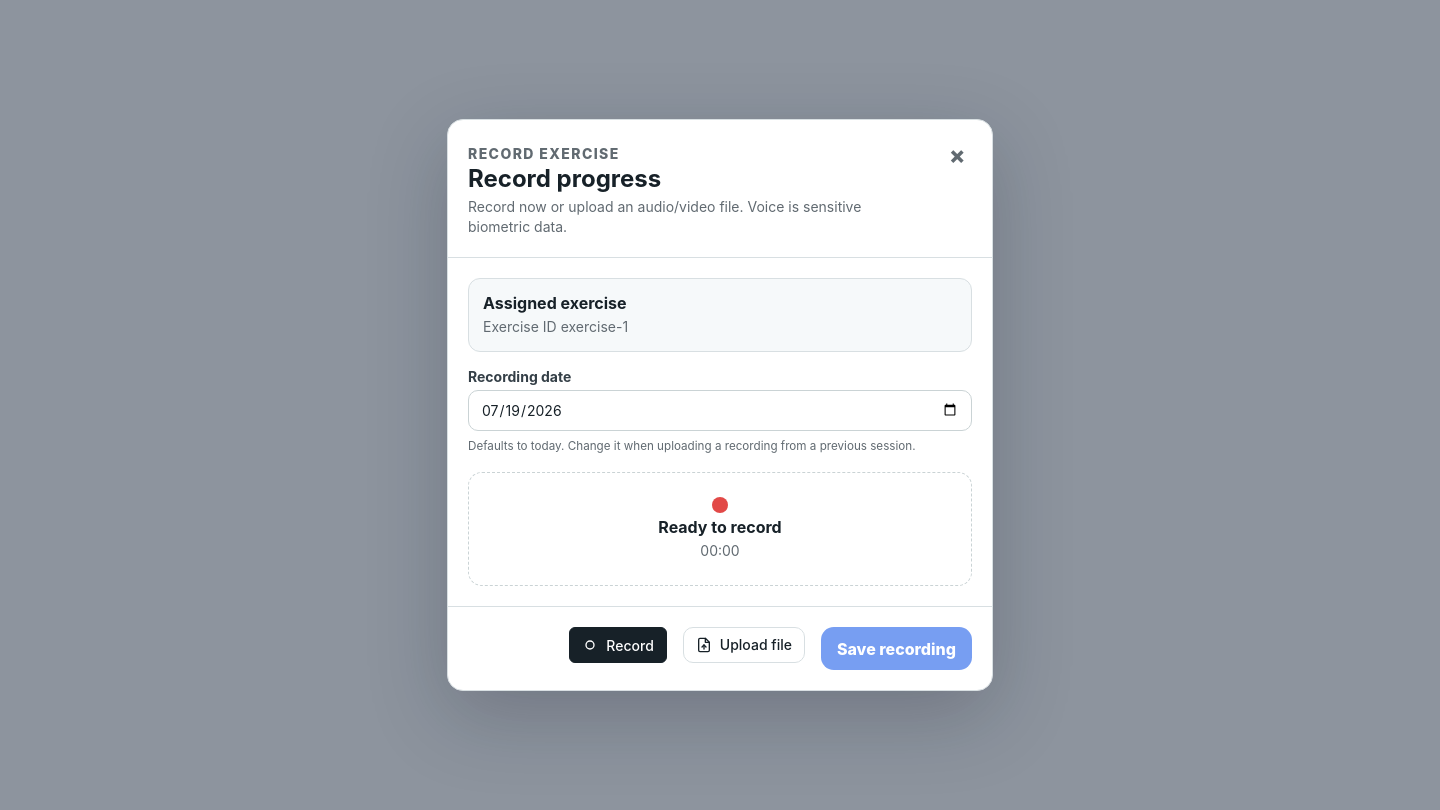
Test: UC-05 patient live recording › reports unsupported browsers when attempting to record
Click the button "Record".
click(618, 645)  # box x1=569 y1=627 x2=667 y2=663
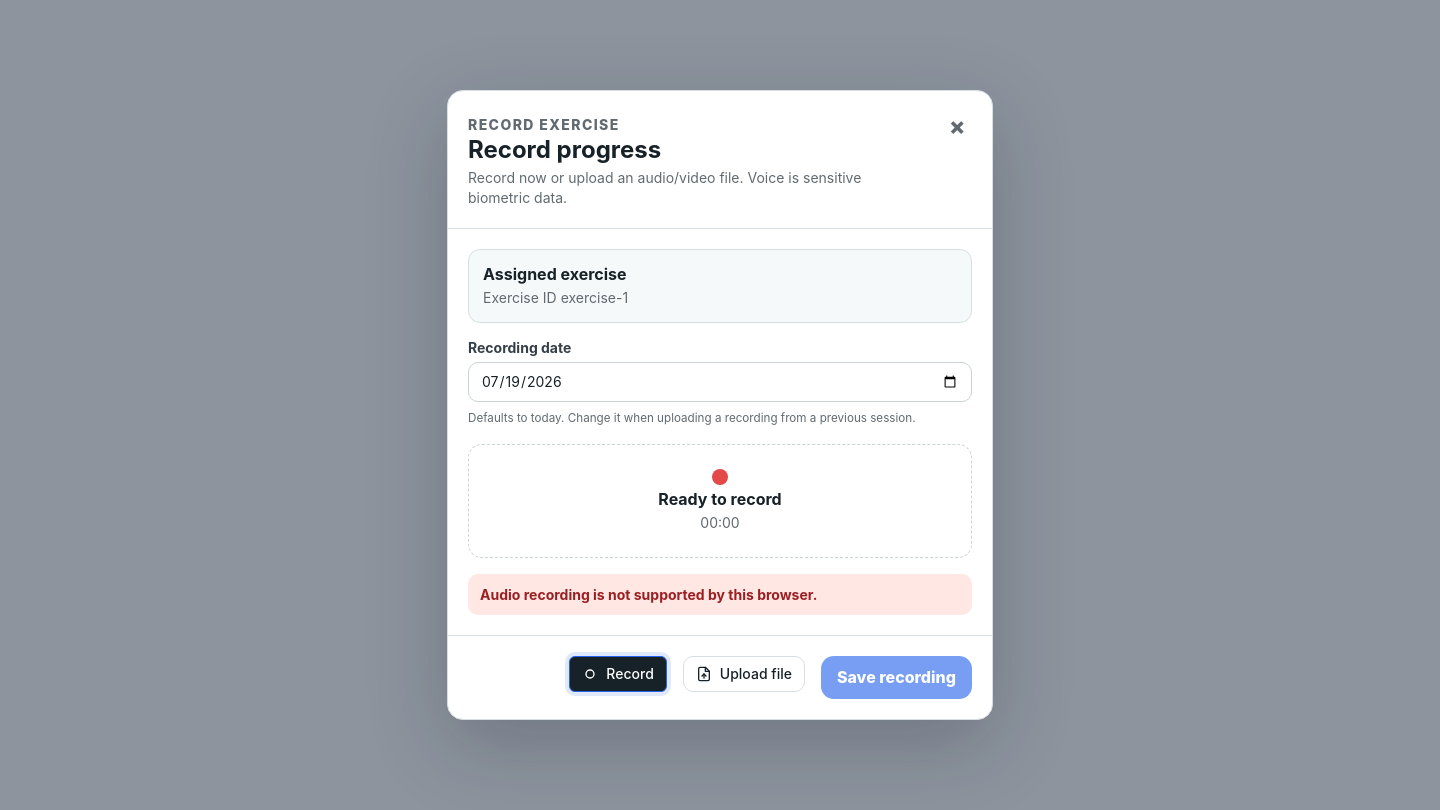
Expected: the message shows "not supported", x1=480 y1=586 x2=817 y2=603
